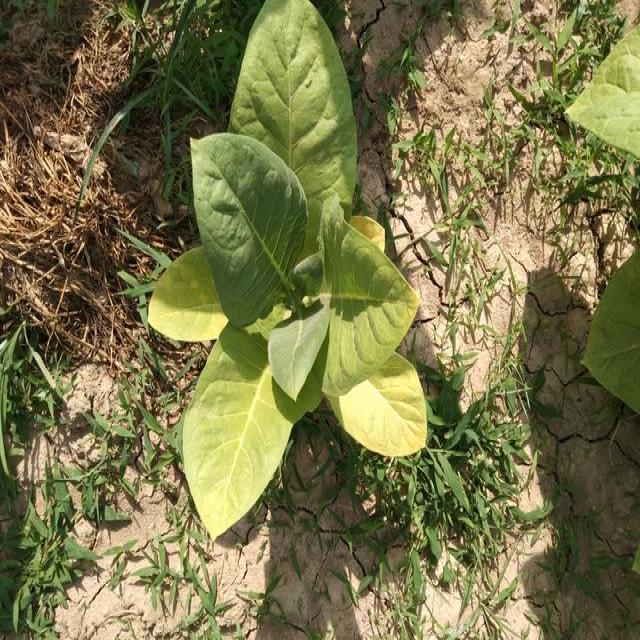crop: (140, 5, 434, 542)
